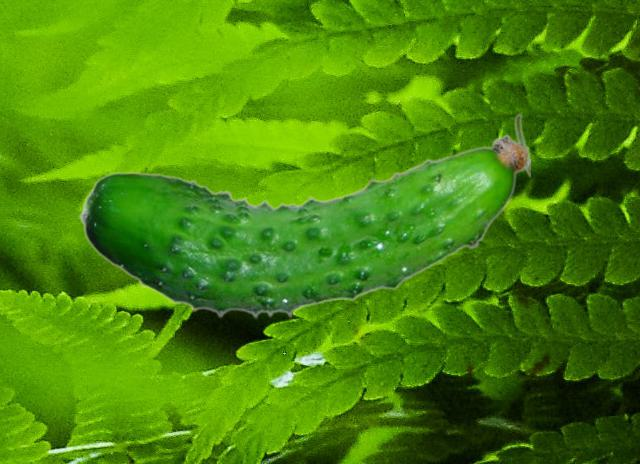cucumber: (77, 113, 529, 318)
